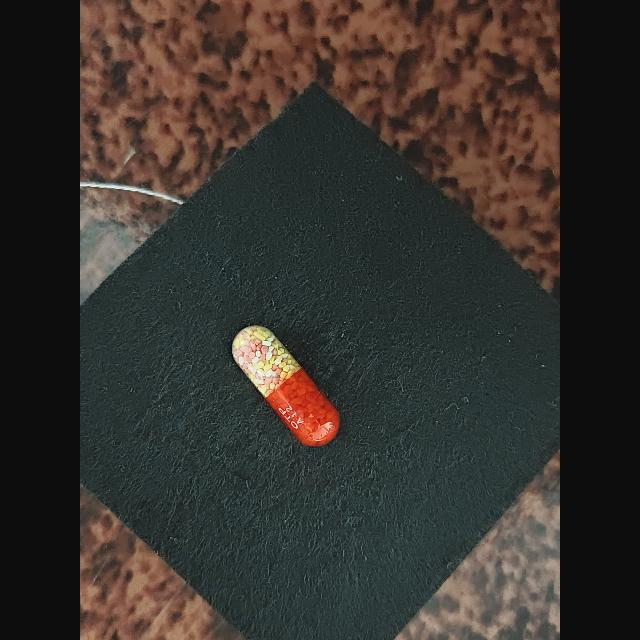Intact Capsule: (232, 325, 340, 446)
